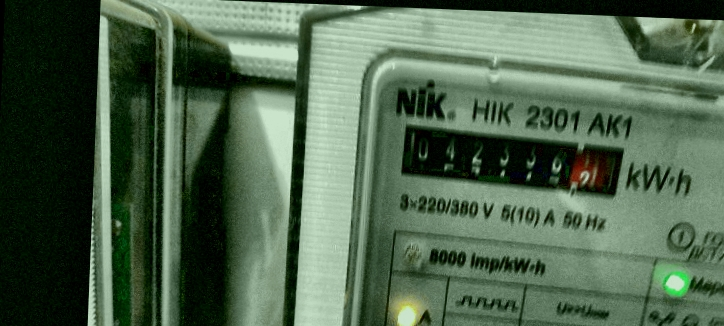0: (415, 133, 429, 162)
2: (467, 137, 486, 165)
3: (494, 138, 511, 168), (523, 140, 538, 169)
4: (441, 135, 458, 163)
6: (548, 147, 564, 175)
screen: (389, 115, 632, 205)
